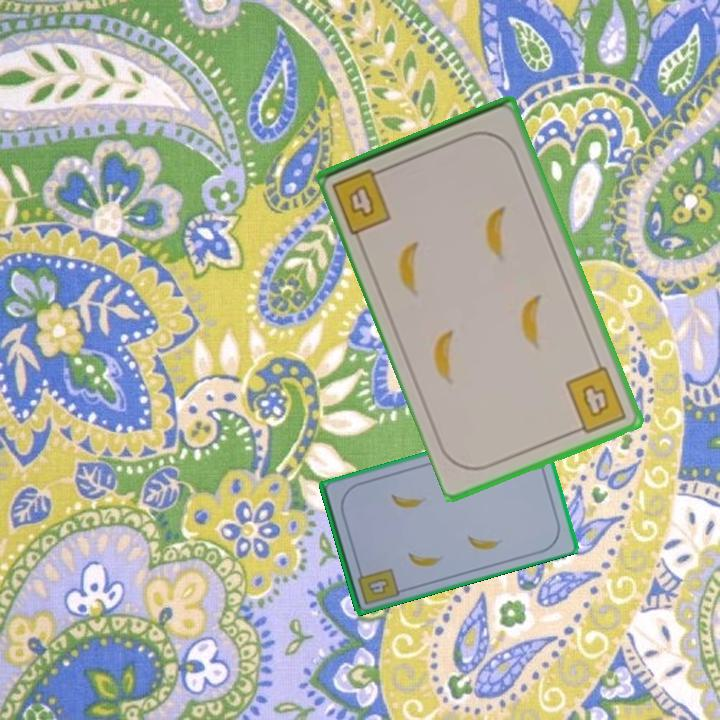4b: (562, 362, 630, 437), (328, 163, 395, 237), (354, 564, 402, 607)
